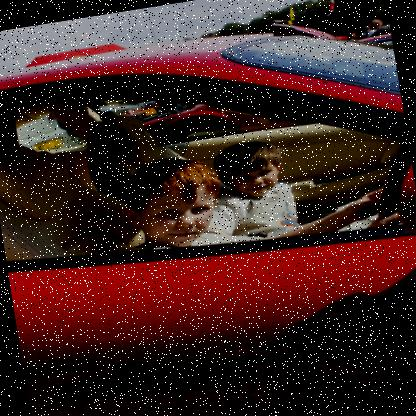Car: (0, 0, 415, 366), (143, 91, 303, 148), (270, 5, 392, 67), (15, 111, 84, 155), (98, 97, 168, 129), (156, 97, 196, 119)
